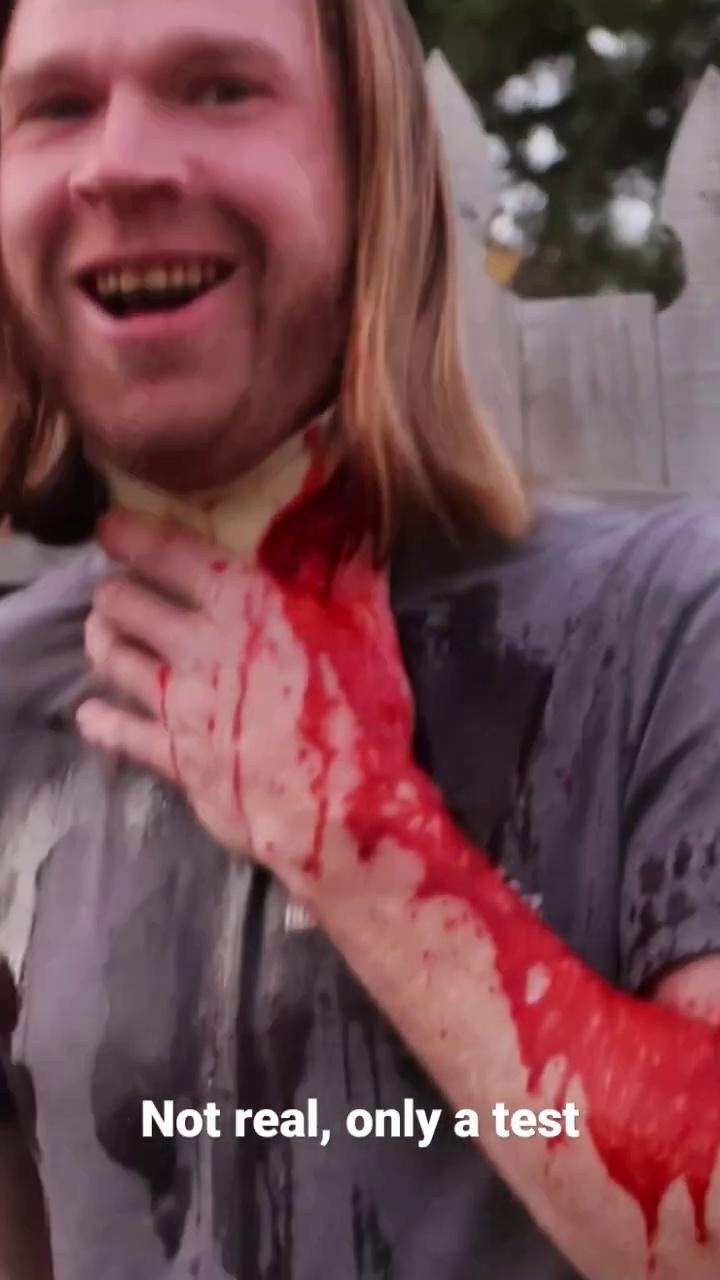Fire: (153, 409, 720, 1246)
